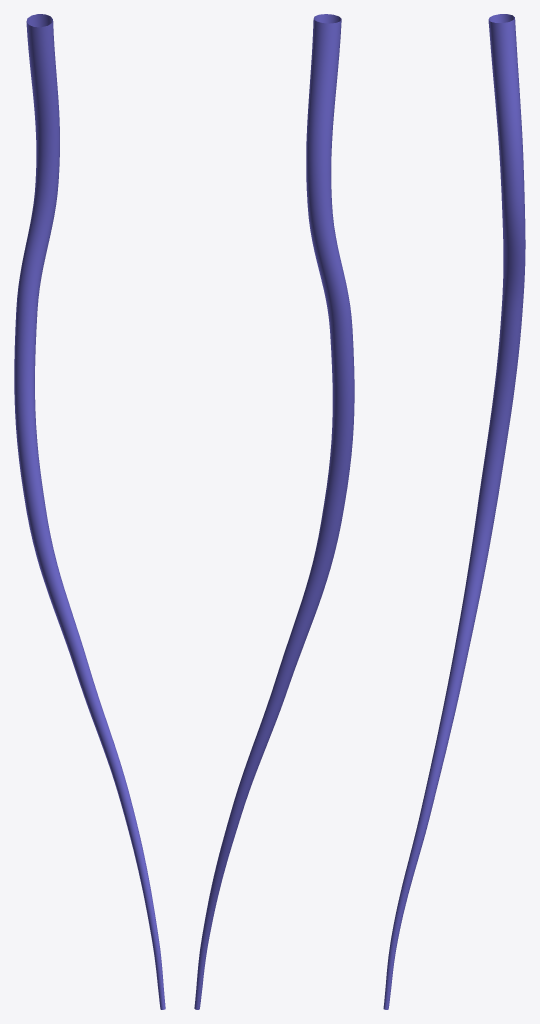
File: Thoracodorsal_vein.l_BezierCurve.311.glb
3 views of the same model, side by side, from view 1: azimuth 30°, elevation 25°; view 2: azimuth 210°, elevation 25°; view 3: azimuth 270°, elevation 25° (orthographic). The views are drawn at different scales.
Visible parts, largest first — view 1: Thoracodorsal_vein.l_BezierCurve.311; view 2: Thoracodorsal_vein.l_BezierCurve.311; view 3: Thoracodorsal_vein.l_BezierCurve.311.
Part boxes in pixels (x1,y1,x2,y2): Thoracodorsal_vein.l_BezierCurve.311: (14, 14, 165, 1009); Thoracodorsal_vein.l_BezierCurve.311: (194, 14, 354, 1009); Thoracodorsal_vein.l_BezierCurve.311: (383, 14, 525, 1009).
Size of the model in its own units: 0.0117 by 0.1189 by 0.0159.
